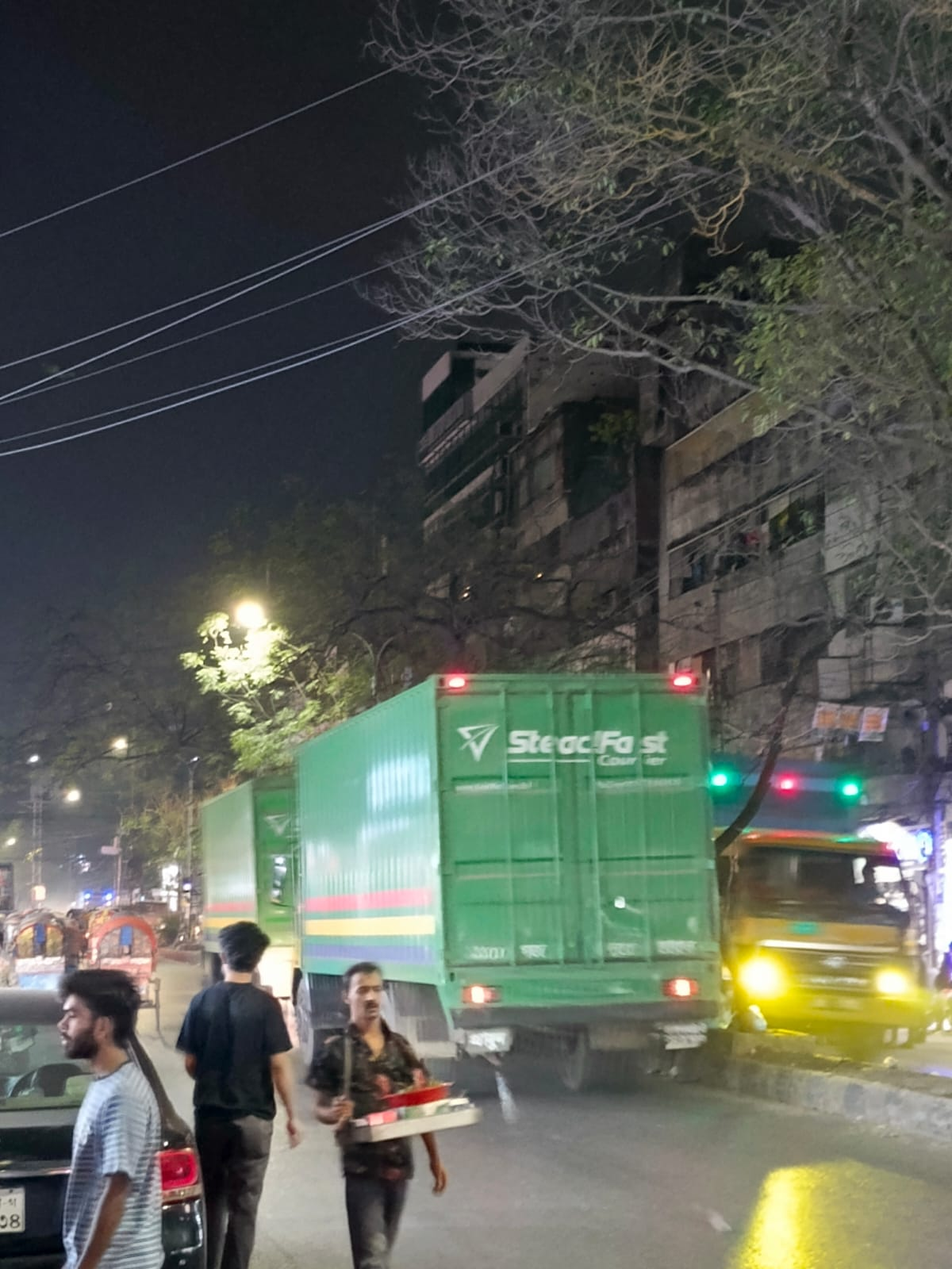Truck: (278, 640, 734, 1149), (703, 714, 952, 1147), (167, 765, 383, 1029)
auto-ricksaw: (16, 884, 163, 1014)
private car: (8, 952, 300, 1269)
